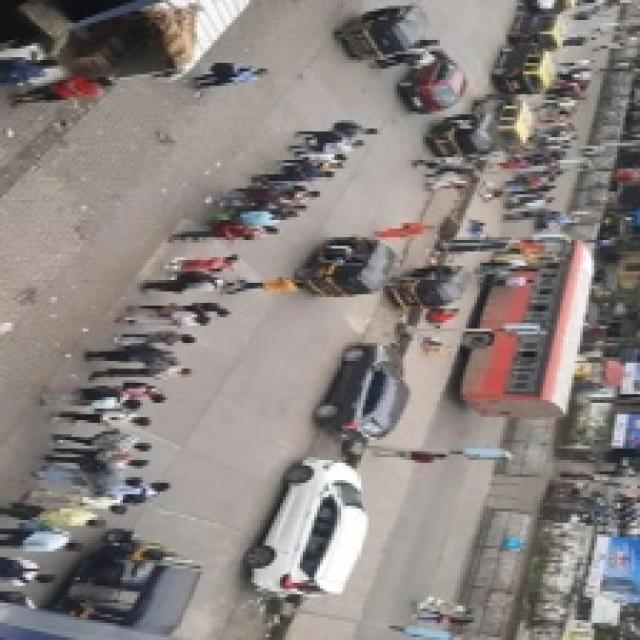car: (246, 455, 370, 601), (315, 343, 408, 445), (394, 49, 465, 117)
